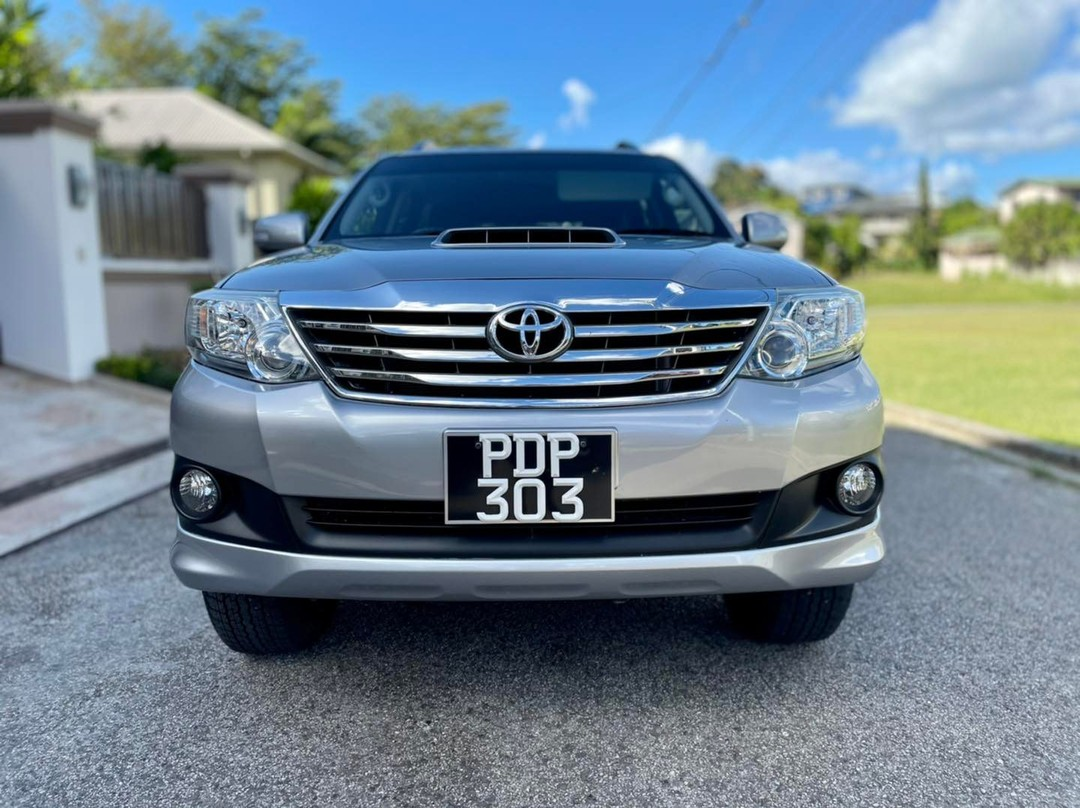License-Plate: (446, 432, 612, 522)
